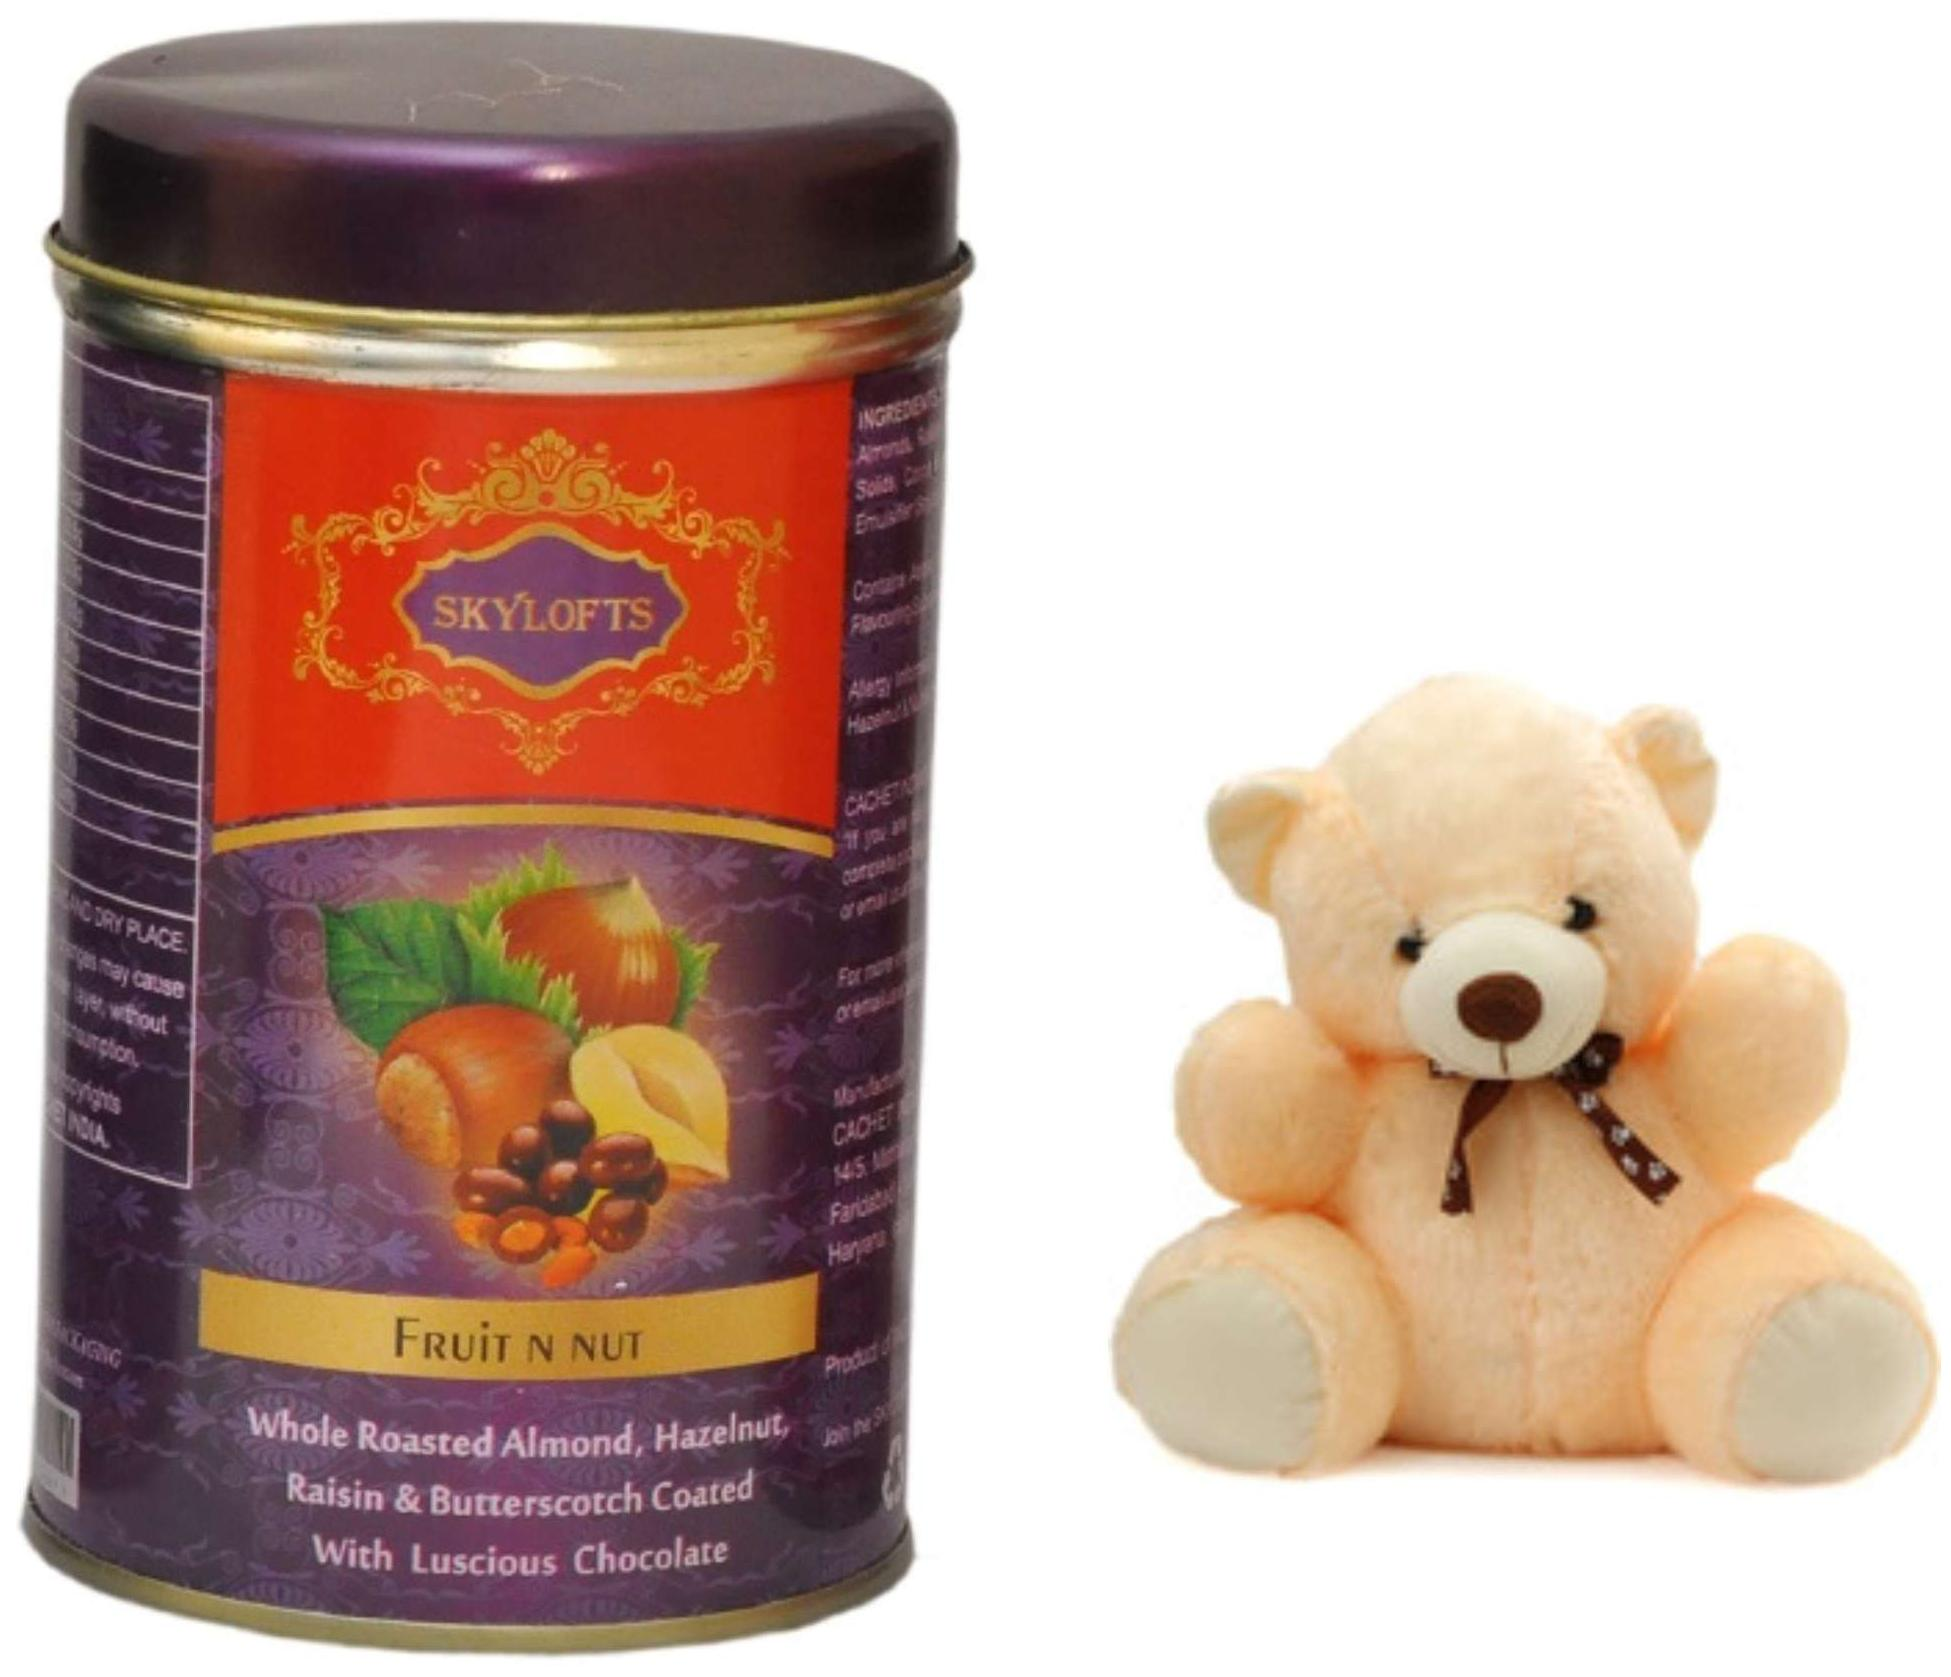JAR: (10, 7, 989, 1664)
